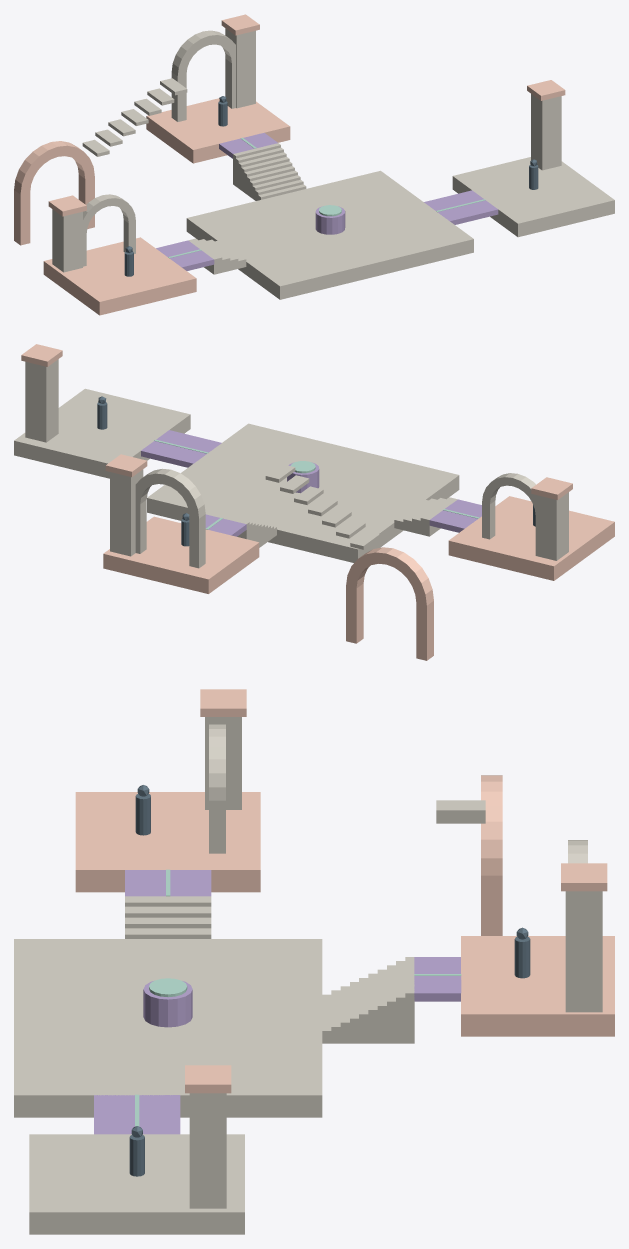
File: echo_district_blockout.glb
3 renders of one model, top to bottom at view 1: azimuth 30°, elevation 25°; view 2: azimuth 150°, elevation 25°; view 3: azimuth 270°, elevation 25°, orthographic. The views are drawn at different scales.
Visible parts, largest first — view 1: WALK_PLAZA, MEMORY_02_DOCK, MEMORY_01_GARDEN, MEMORY_03_ARCHIVE, MASS_DOCK_TOWER, ARCH_DISTANT_FRAME_VAULT, MASS_GARDEN_TOWER, MASS_ARCHIVE_TOWER, BRIDGE_DECK_02_DOCK, ARCH_ARCHIVE_VAULT, BRIDGE_DECK_01_GARDEN, ARCH_DISTANT_FRAME_LEFT (+10 smaller); view 2: WALK_PLAZA, MEMORY_02_DOCK, MEMORY_01_GARDEN, MEMORY_03_ARCHIVE, MASS_DOCK_TOWER, MASS_ARCHIVE_TOWER, MASS_GARDEN_TOWER, ARCH_DISTANT_FRAME_VAULT, BRIDGE_DECK_02_DOCK, ARCH_ARCHIVE_VAULT, BRIDGE_DECK_01_GARDEN, ARCH_DISTANT_FRAME_LEFT (+10 smaller); view 3: WALK_PLAZA, MEMORY_02_DOCK, MEMORY_01_GARDEN, MEMORY_03_ARCHIVE, MASS_ARCHIVE_TOWER, MASS_DOCK_TOWER, BRIDGE_DECK_02_DOCK, BRIDGE_DECK_01_GARDEN, ARCH_DISTANT_FRAME_VAULT, BRIDGE_DECK_03_ARCHIVE, MASS_GARDEN_TOWER, MASS_CENTRAL_RELAY (+15 smaller).
Boxes of the visible parts, x1,y1,x2,y2 form: WALK_PLAZA: [186, 170, 473, 299]; MEMORY_02_DOCK: [452, 157, 614, 237]; MEMORY_01_GARDEN: [43, 237, 196, 315]; MEMORY_03_ARCHIVE: [146, 98, 290, 163]; MASS_DOCK_TOWER: [531, 94, 561, 170]; ARCH_DISTANT_FRAME_VAULT: [14, 141, 94, 194]; MASS_GARDEN_TOWER: [52, 209, 82, 272]; MASS_ARCHIVE_TOWER: [225, 28, 255, 108]; BRIDGE_DECK_02_DOCK: [424, 190, 498, 224]; ARCH_ARCHIVE_VAULT: [171, 30, 235, 76]; BRIDGE_DECK_01_GARDEN: [156, 240, 214, 270]; ARCH_DISTANT_FRAME_LEFT: [14, 190, 30, 245]; WALK_PLAZA: [147, 423, 459, 562]; MEMORY_02_DOCK: [14, 388, 190, 478]; MEMORY_01_GARDEN: [448, 496, 614, 580]; MEMORY_03_ARCHIVE: [103, 516, 259, 593]; MASS_DOCK_TOWER: [25, 359, 58, 442]; MASS_ARCHIVE_TOWER: [110, 469, 143, 556]; MASS_GARDEN_TOWER: [535, 492, 568, 560]; ARCH_DISTANT_FRAME_VAULT: [346, 547, 433, 605]; BRIDGE_DECK_02_DOCK: [141, 430, 221, 467]; ARCH_ARCHIVE_VAULT: [135, 468, 205, 518]; BRIDGE_DECK_01_GARDEN: [429, 499, 481, 532]; ARCH_DISTANT_FRAME_LEFT: [416, 601, 433, 660]; WALK_PLAZA: [14, 939, 322, 1117]; MEMORY_02_DOCK: [29, 1134, 244, 1234]; MEMORY_01_GARDEN: [75, 792, 260, 892]; MEMORY_03_ARCHIVE: [461, 936, 614, 1036]; MASS_ARCHIVE_TOWER: [565, 891, 602, 1012]; MASS_DOCK_TOWER: [189, 1093, 226, 1208]; BRIDGE_DECK_02_DOCK: [94, 1095, 180, 1134]; BRIDGE_DECK_01_GARDEN: [125, 870, 211, 896]; ARCH_DISTANT_FRAME_VAULT: [481, 775, 502, 875]; BRIDGE_DECK_03_ARCHIVE: [414, 957, 461, 1001]; MASS_GARDEN_TOWER: [205, 717, 241, 809]; MASS_CENTRAL_RELAY: [143, 981, 192, 1027].
Size of the model in its own units: 31 by 8.2 by 19.5.
